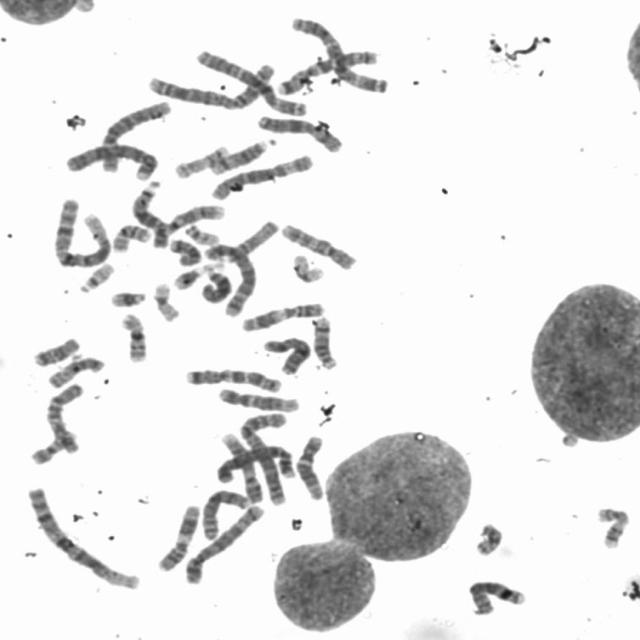A1: (21, 481, 144, 592), (47, 193, 114, 270)
A2: (144, 57, 278, 111), (233, 407, 291, 507)
A3: (286, 11, 392, 96), (190, 46, 308, 118)
B4: (59, 138, 160, 182), (214, 440, 298, 485)
B5: (180, 500, 268, 586), (201, 238, 259, 318)
C10: (277, 218, 360, 272), (41, 379, 86, 456)
C11: (153, 500, 202, 573), (236, 298, 328, 333)
C12: (214, 384, 302, 413), (292, 431, 328, 501)
C6: (96, 95, 173, 173), (207, 150, 317, 202)
C7: (273, 46, 380, 97), (180, 364, 285, 394)
C8: (199, 485, 252, 541), (464, 576, 528, 616)
C9: (216, 430, 265, 504), (150, 201, 226, 248)
D13: (128, 178, 168, 245), (198, 261, 235, 305)
D14: (208, 134, 276, 176), (309, 313, 341, 370)
D15: (218, 216, 282, 266), (43, 352, 108, 390)
E16: (116, 307, 150, 363), (109, 220, 152, 254)
E17: (171, 141, 232, 180), (594, 502, 632, 551)
E18: (29, 333, 83, 368), (166, 235, 203, 267)
F19: (148, 278, 182, 324), (288, 250, 327, 284)
F20: (26, 427, 79, 466), (471, 520, 505, 558)
G21: (169, 262, 207, 290), (105, 286, 149, 309)
G22: (75, 259, 117, 294), (181, 220, 222, 246)
X: (252, 111, 344, 154), (260, 332, 314, 376)
